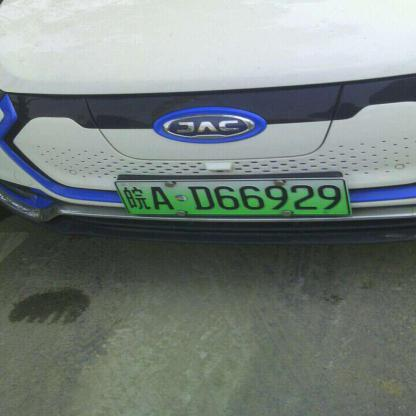lp: (115, 177, 350, 215)
